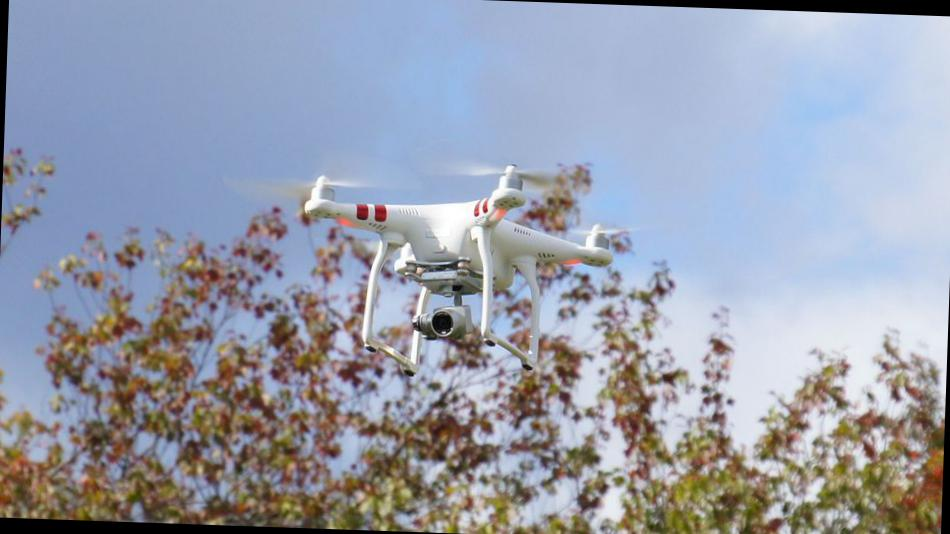drone: (286, 152, 622, 377)
